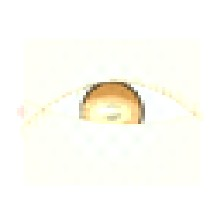corneal_ulcer: (75, 87, 143, 141)
